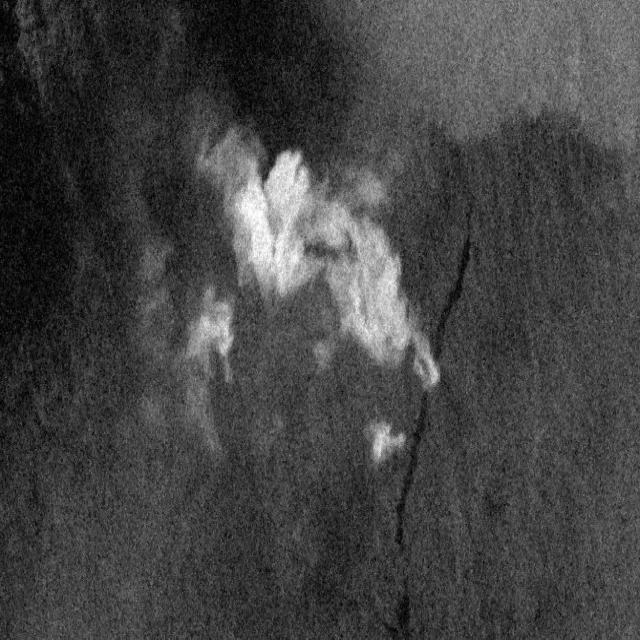look-alike: (0, 14, 174, 373), (181, 4, 351, 181), (392, 395, 430, 639), (430, 218, 479, 368)
